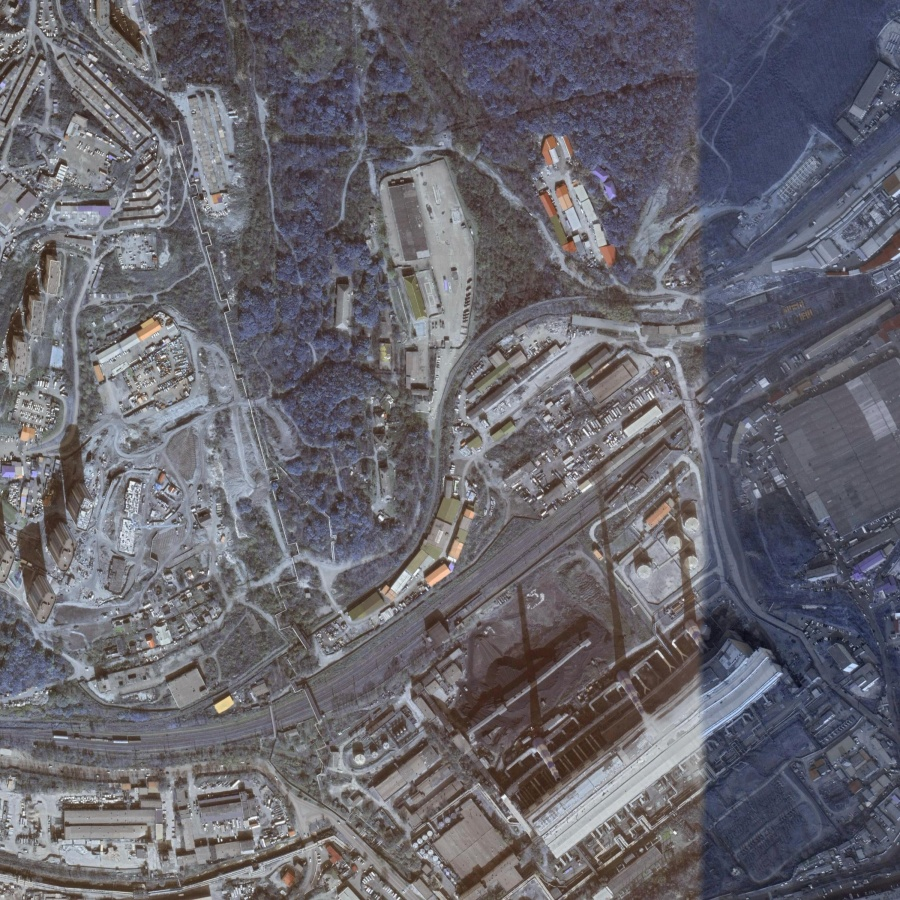PowerPlant: (451, 493, 778, 861)
